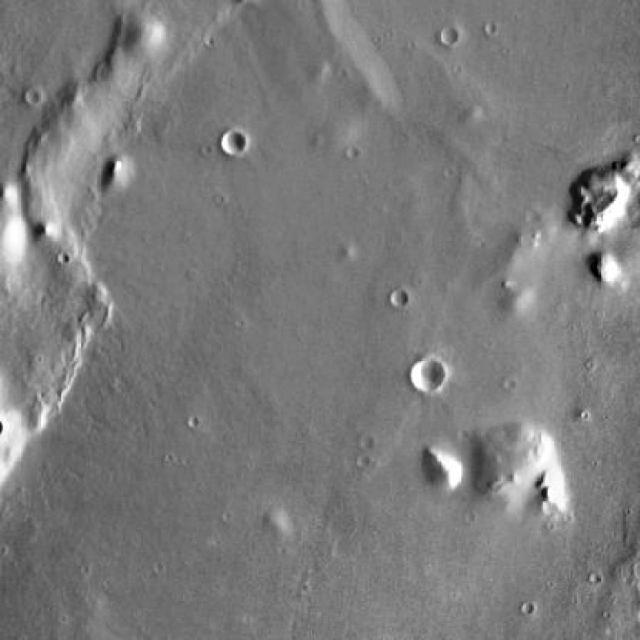crater: (414, 360, 444, 391), (221, 131, 245, 155), (439, 25, 459, 44), (25, 88, 40, 103)
